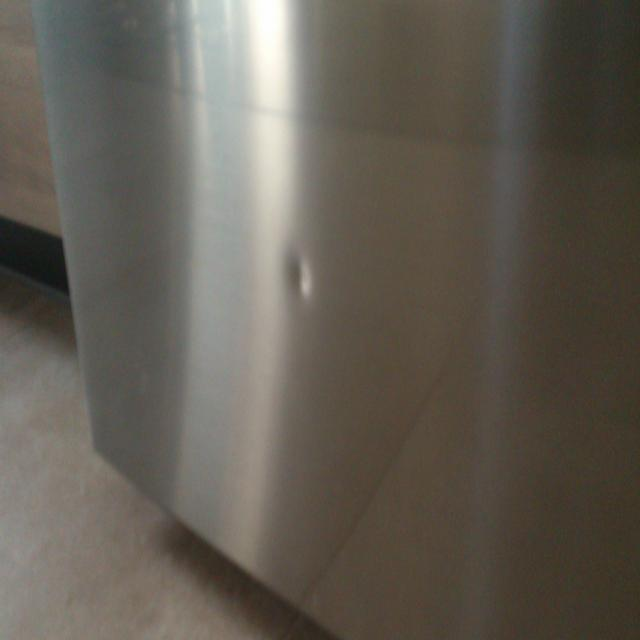dents: (278, 243, 342, 324)
